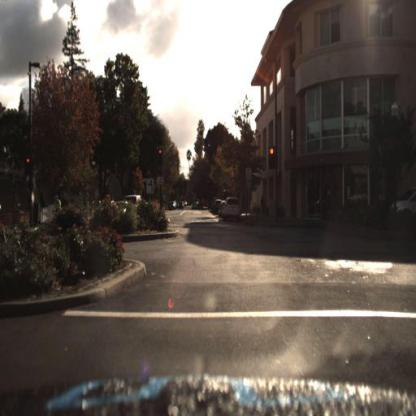biker: (49, 197, 66, 218)
car: (385, 184, 416, 223), (121, 194, 146, 222), (224, 199, 240, 223)
trafficLight-Red: (268, 143, 277, 169), (26, 154, 34, 173), (157, 145, 164, 166)
